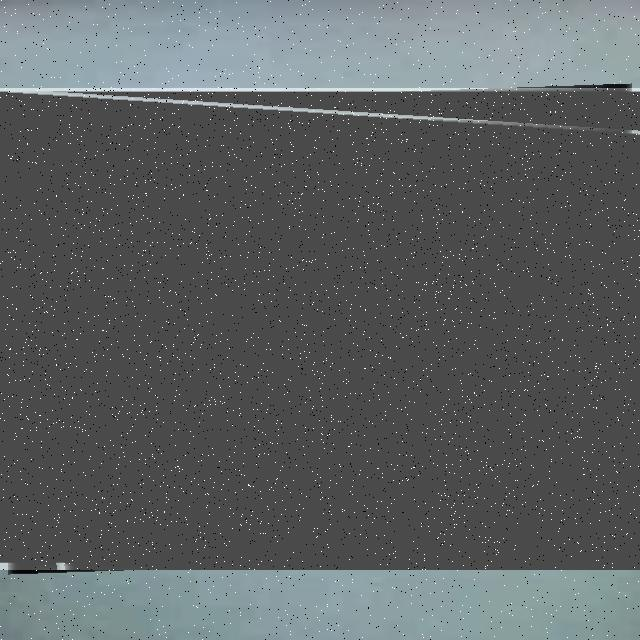lima puluh ribu rupiah: (0, 88, 640, 570)
